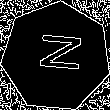N_W: (29, 34, 83, 79)
